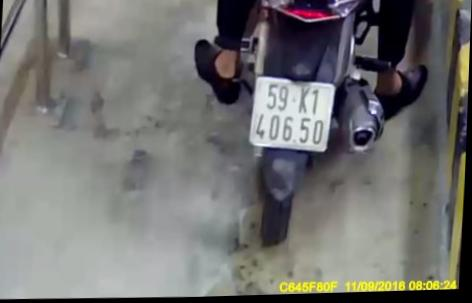LP: (247, 75, 337, 157)
